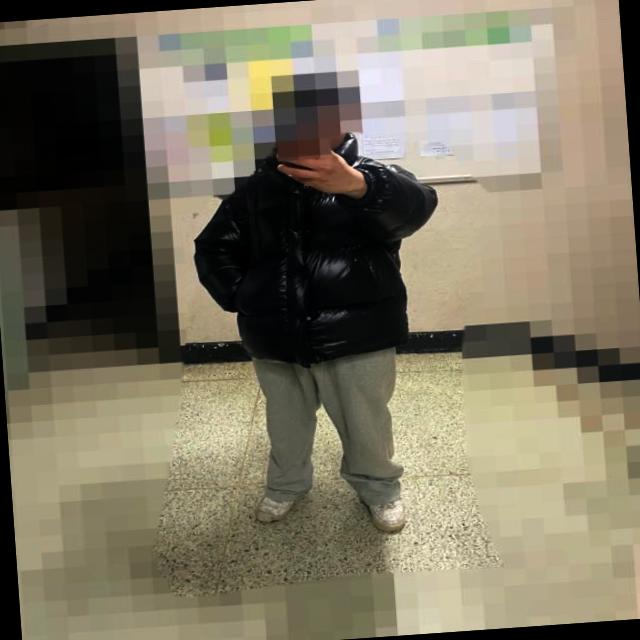padding: (184, 132, 452, 374)
trainingpants: (248, 343, 406, 513)
